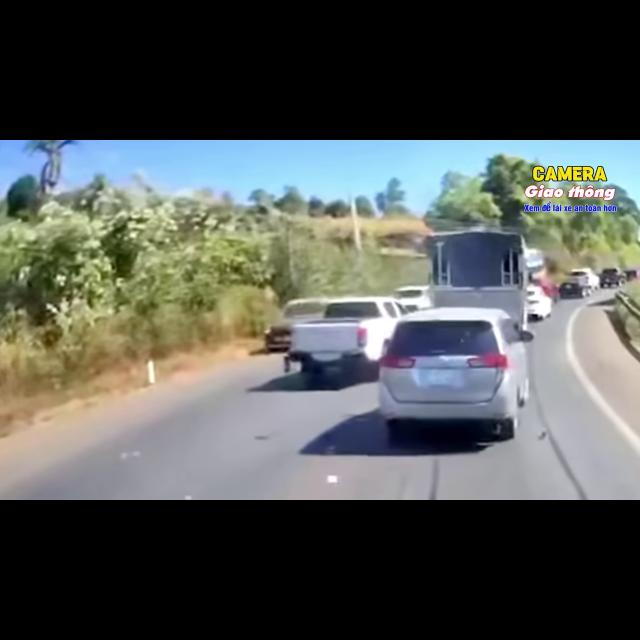car: (379, 308, 533, 443), (285, 297, 406, 387), (264, 298, 327, 352), (394, 286, 432, 311), (526, 285, 553, 319), (570, 268, 599, 295), (529, 277, 559, 303), (559, 279, 588, 298), (600, 268, 625, 287), (624, 269, 639, 281)
truck: (426, 229, 528, 329)
